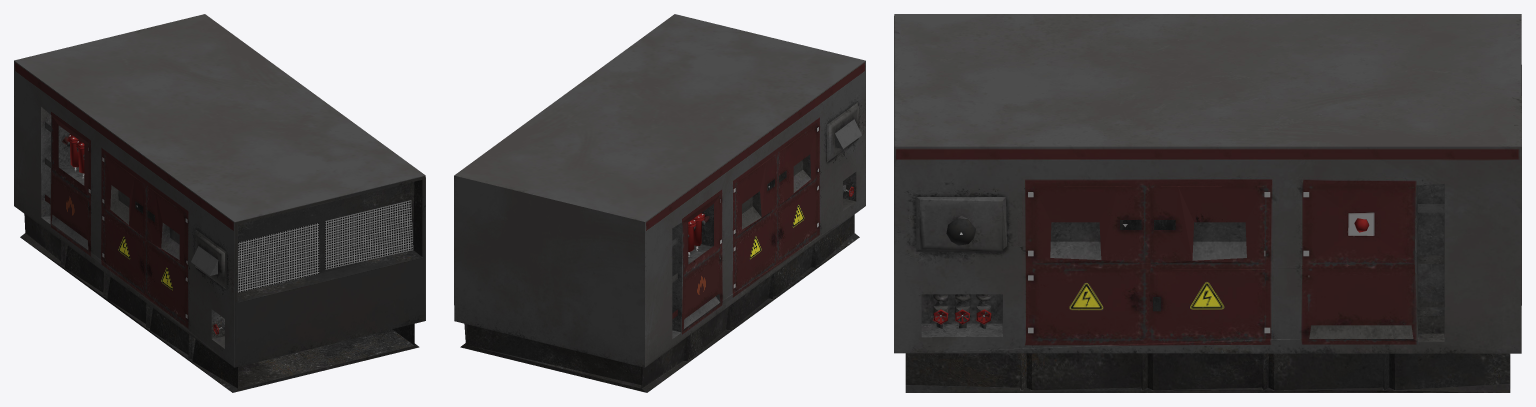
The model's file is chiller-lp.glb.
3 views of the same model, side by side, from view 1: azimuth 30°, elevation 25°; view 2: azimuth 150°, elevation 25°; view 3: azimuth 270°, elevation 25° (orthographic). The views are drawn at different scales.
Visible parts, largest first — view 1: Box003; view 2: Box003; view 3: Box003.
Boxes of the visible parts, <box> form: Box003: <box>14,14,425,392</box>; Box003: <box>454,14,865,392</box>; Box003: <box>894,14,1521,392</box>.
Bounding box in the file's own units: 1.86 × 1.42 × 3.27.
Materials: 1 (1 with a texture image).
